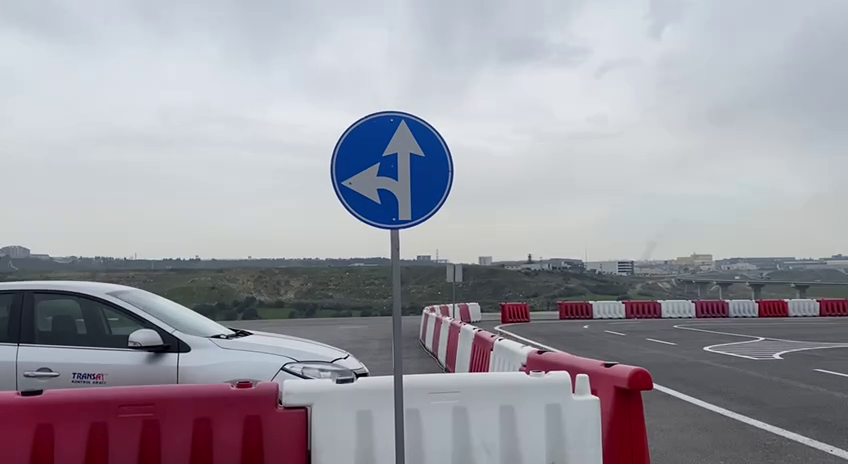forwardAndLeft: (327, 107, 456, 234)
